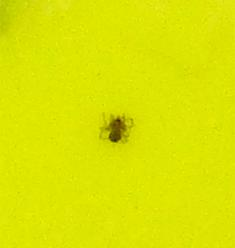Araneae: (99, 109, 135, 148)
